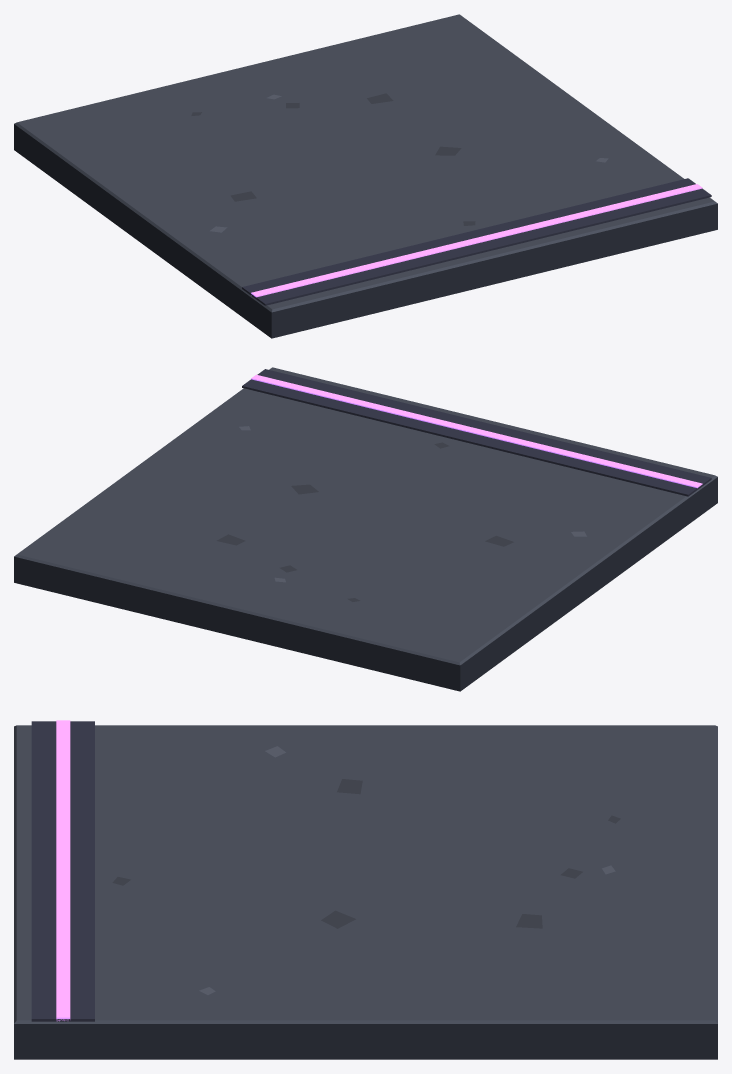
The model's file is boden_hallenboden_b.glb.
3 views of the same model, one above another, from view 1: azimuth 30°, elevation 25°; view 2: azimuth 150°, elevation 25°; view 3: azimuth 270°, elevation 25° (orthographic). The views are drawn at different scales.
Visible parts, largest first — view 1: boden_hallenboden_b; view 2: boden_hallenboden_b; view 3: boden_hallenboden_b.
Boxes of the visible parts, left/top/right/bottom form: boden_hallenboden_b: left=14, top=14, right=717, bottom=338; boden_hallenboden_b: left=14, top=367, right=717, bottom=691; boden_hallenboden_b: left=14, top=720, right=717, bottom=1059.
Size of the model in its own units: 1 by 0.066 by 1.
